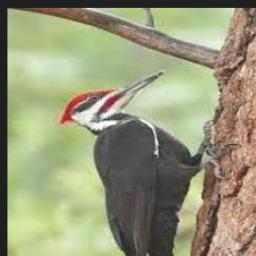Woodpecker: (59, 70, 234, 256)
